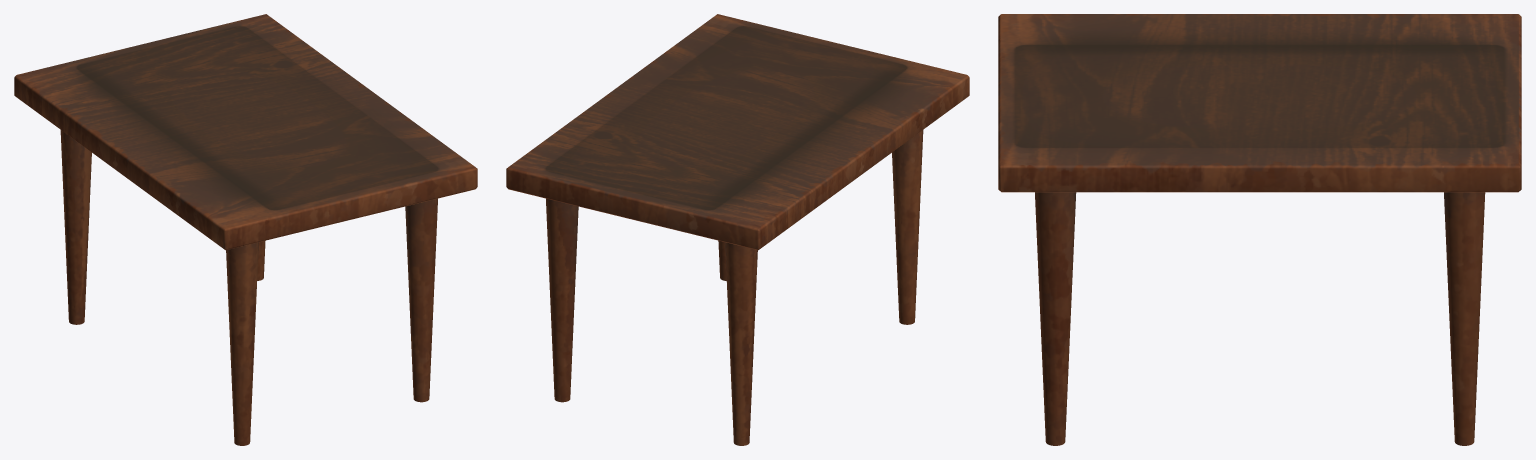
Rendered from SM_TableMin.fbx.
3 views of the same model, side by side, from view 1: azimuth 30°, elevation 25°; view 2: azimuth 150°, elevation 25°; view 3: azimuth 270°, elevation 25° (orthographic). The views are drawn at different scales.
Visible parts, largest first — view 1: SM_TableMin_LOD0; view 2: SM_TableMin_LOD0; view 3: SM_TableMin_LOD0.
Boxes of the visible parts, x1,y1,x2,y2 form: SM_TableMin_LOD0: (14, 14, 477, 445); SM_TableMin_LOD0: (506, 14, 969, 445); SM_TableMin_LOD0: (998, 14, 1521, 445).
Bounding box in the file's own units: 53.91 × 77.74 × 48.59.
Materials: 1 (1 with a texture image).
